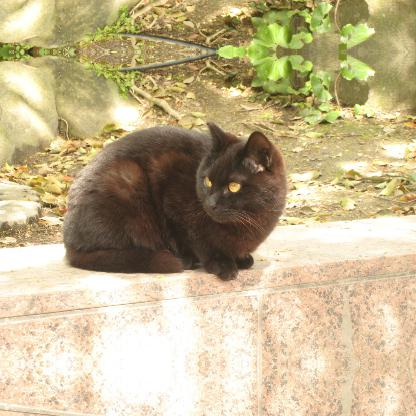Cat: (60, 118, 286, 282)
